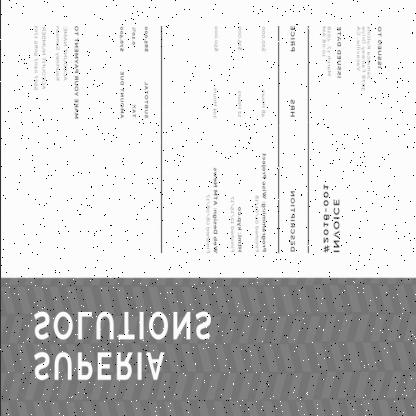Paragraph: (31, 23, 80, 121), (116, 24, 150, 122), (354, 24, 383, 94), (320, 181, 341, 256), (320, 24, 342, 82)
Table: (203, 24, 307, 256)
